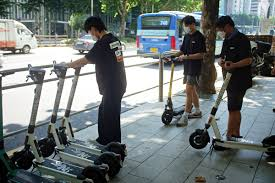kick_handler: (28, 64, 45, 83)
kick_neck: (28, 85, 41, 135), (168, 65, 175, 101)
kick_wheel: (190, 129, 209, 149), (12, 151, 33, 169), (162, 111, 171, 124)
